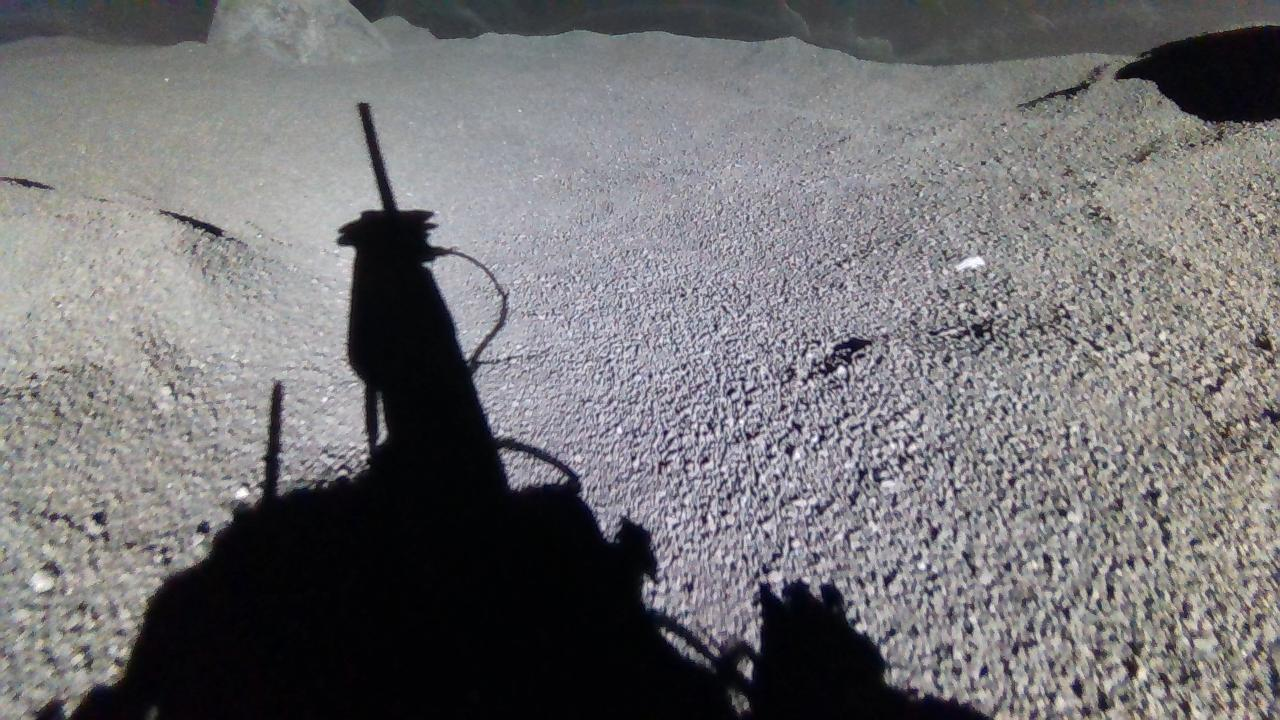rock: (207, 0, 390, 62)
